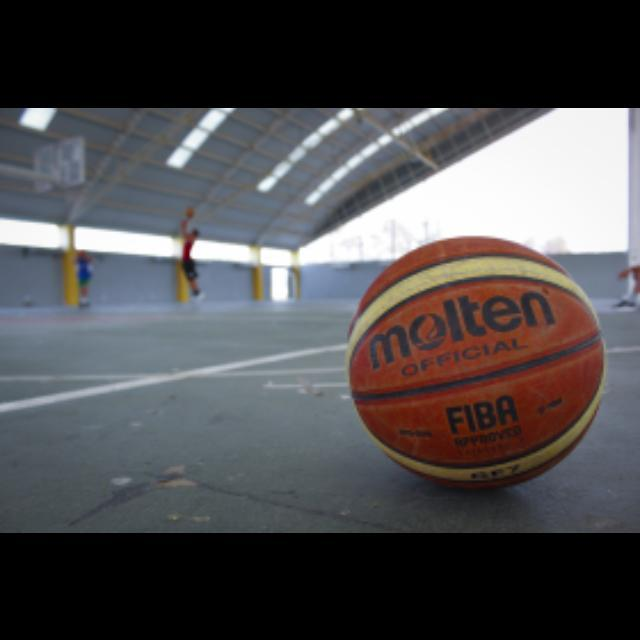basketball: (348, 236, 604, 487)
